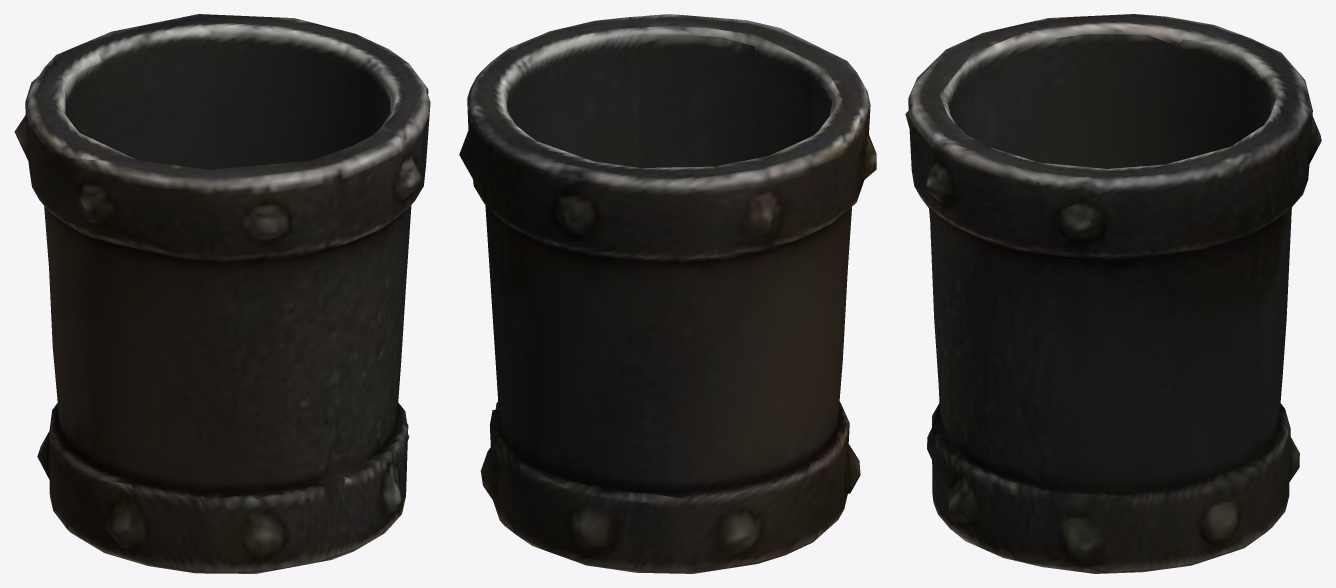
File: cup_normal.fbx
3 renders of one model, left to right at view 1: azimuth 30°, elevation 25°; view 2: azimuth 150°, elevation 25°; view 3: azimuth 270°, elevation 25°, orthographic.
Parts seen in each view (by area): view 1: cup_normal; view 2: cup_normal; view 3: cup_normal.
Part boxes in pixels (x1,y1,x2,y2): cup_normal: [14, 14, 430, 573]; cup_normal: [459, 14, 876, 573]; cup_normal: [905, 14, 1321, 573].
Size of the model in its own units: 19.67 by 21.21 by 19.72.
1 material, 1 textured.
